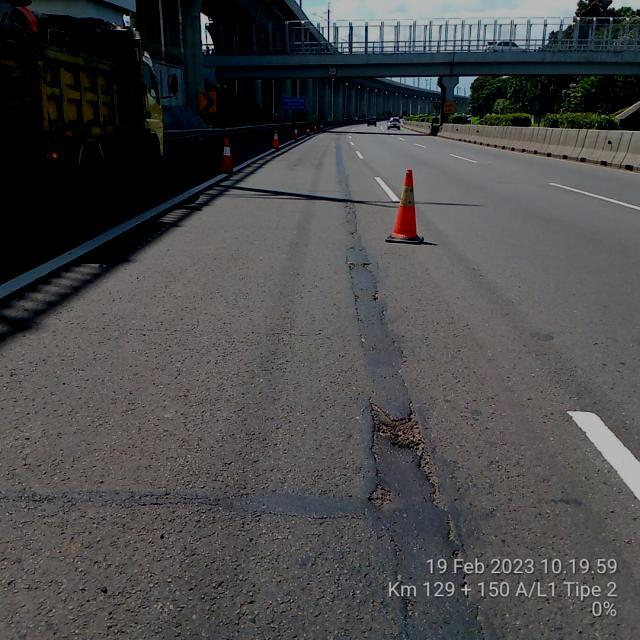Buraco: (365, 400, 451, 514), (358, 261, 377, 275), (370, 290, 383, 304)
